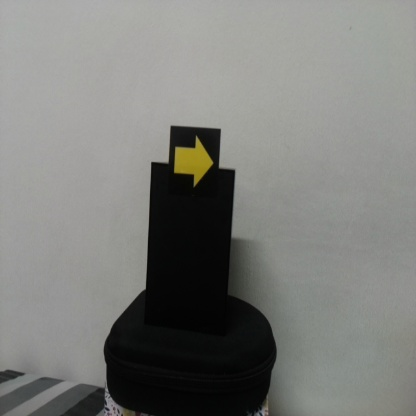id_3: (169, 127, 220, 194)
